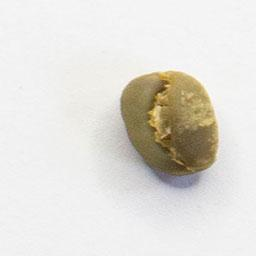peaberry: (117, 67, 223, 179)
